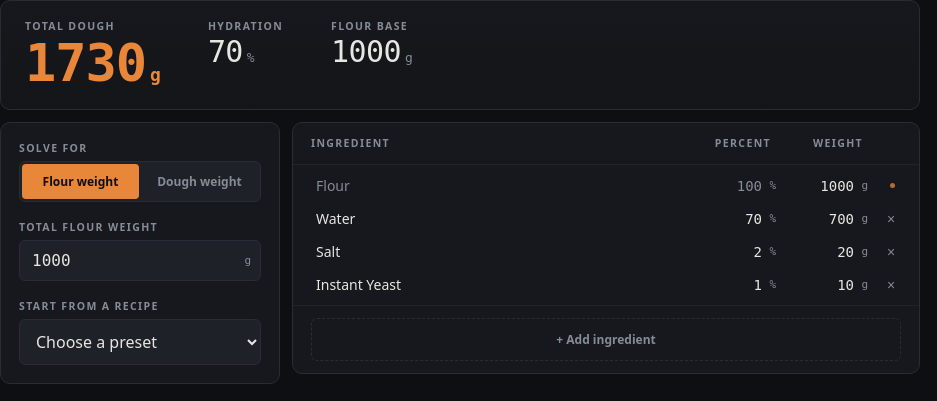
CalculatorComponent (zoneless reactivity) › re-renders the summary when the recipe changes
Replace the text in the 2nd number field named "Percentage" with "85" at (739, 218), box [695,204,783,234]
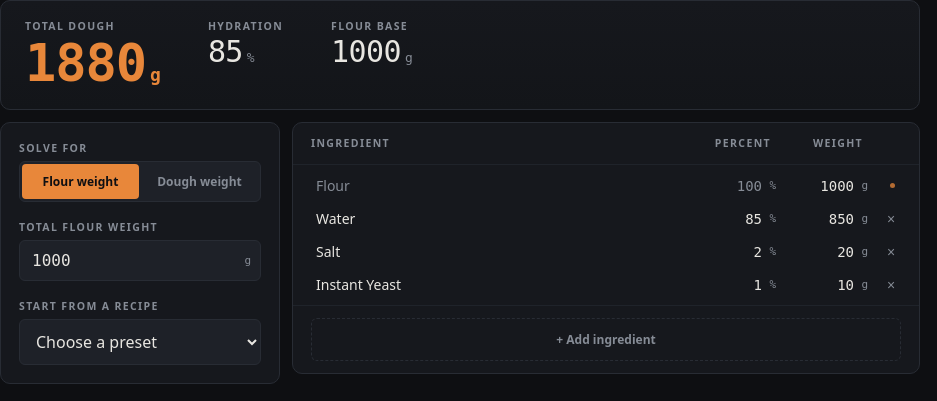
Now the text "85" is shown, box [208,34,243,69]
